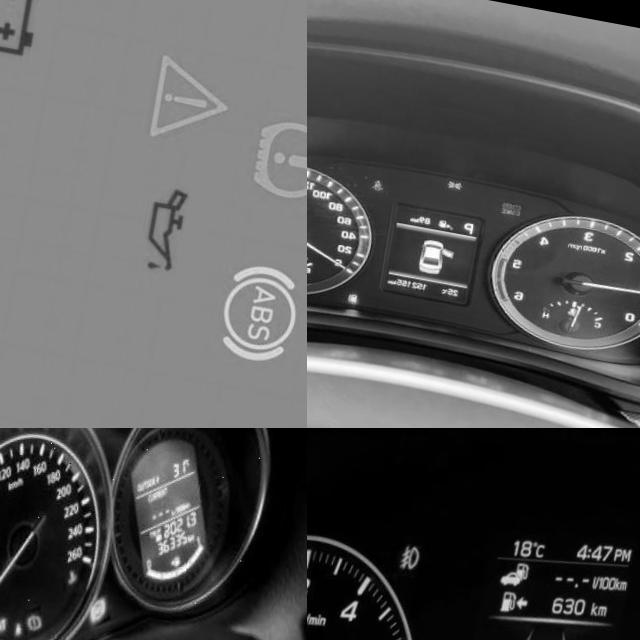Seat Belt: (378, 168, 390, 183)
